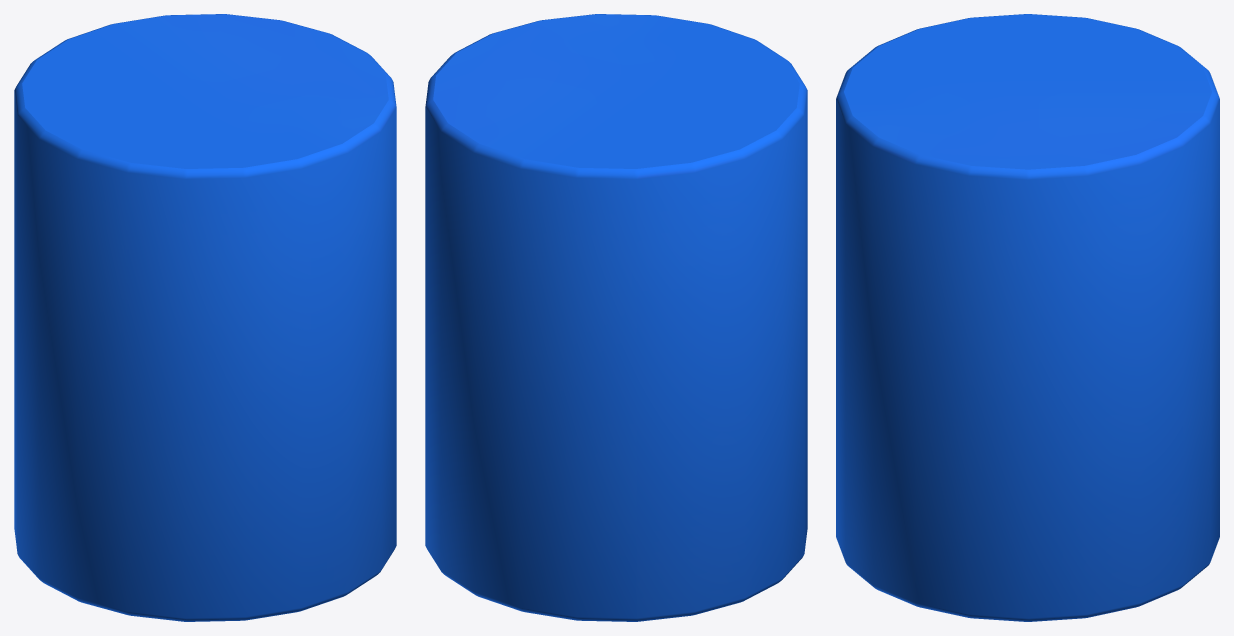
File: CylinderBlue.fbx
3 views of the same model, side by side, from view 1: azimuth 30°, elevation 25°; view 2: azimuth 150°, elevation 25°; view 3: azimuth 270°, elevation 25° (orthographic).
Visible parts, largest first — view 1: Cylinder; view 2: Cylinder; view 3: Cylinder.
Boxes of the visible parts, x1,y1,x2,y2 form: Cylinder: (14,14,396,621); Cylinder: (425,14,807,621); Cylinder: (836,14,1219,621).
Bounding box in the file's own units: 2 × 2.6 × 2.
